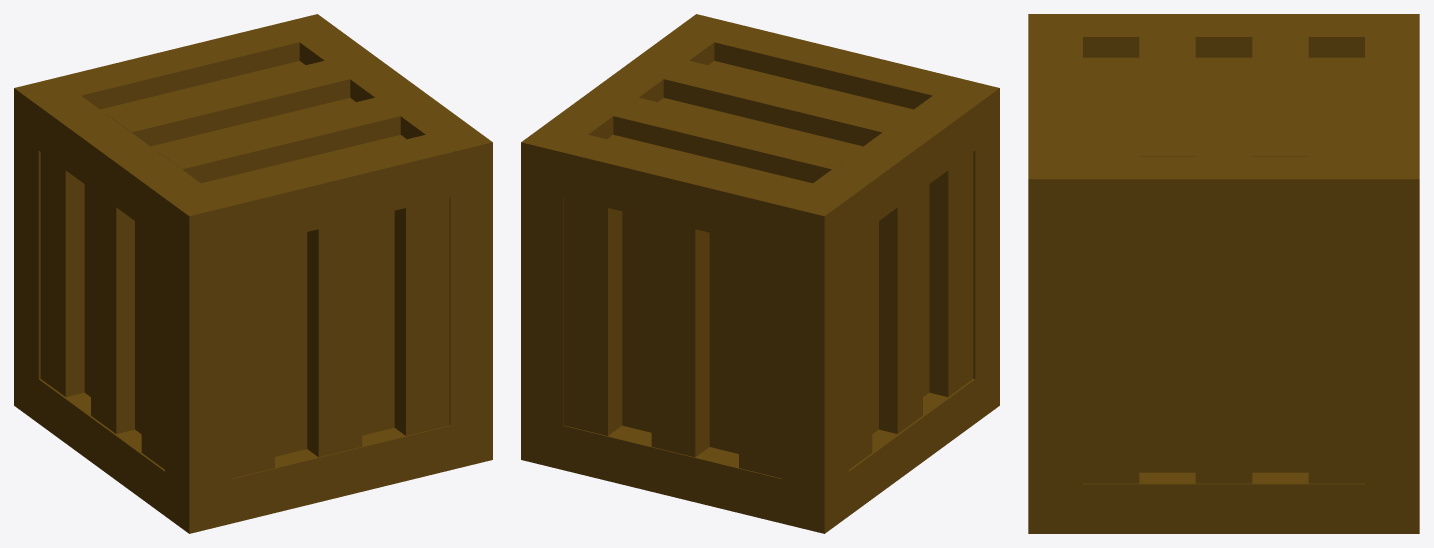
File: Crate.fbx
3 views of the same model, side by side, from view 1: azimuth 30°, elevation 25°; view 2: azimuth 150°, elevation 25°; view 3: azimuth 270°, elevation 25° (orthographic). The views are drawn at different scales.
Visible parts, largest first — view 1: Cube; view 2: Cube; view 3: Cube.
Part boxes in pixels (left/top/right/bottom): Cube: left=14, top=14, right=492, bottom=533; Cube: left=521, top=14, right=999, bottom=533; Cube: left=1028, top=14, right=1419, bottom=533.
Bounding box in the file's own units: 200 × 200 × 200.
